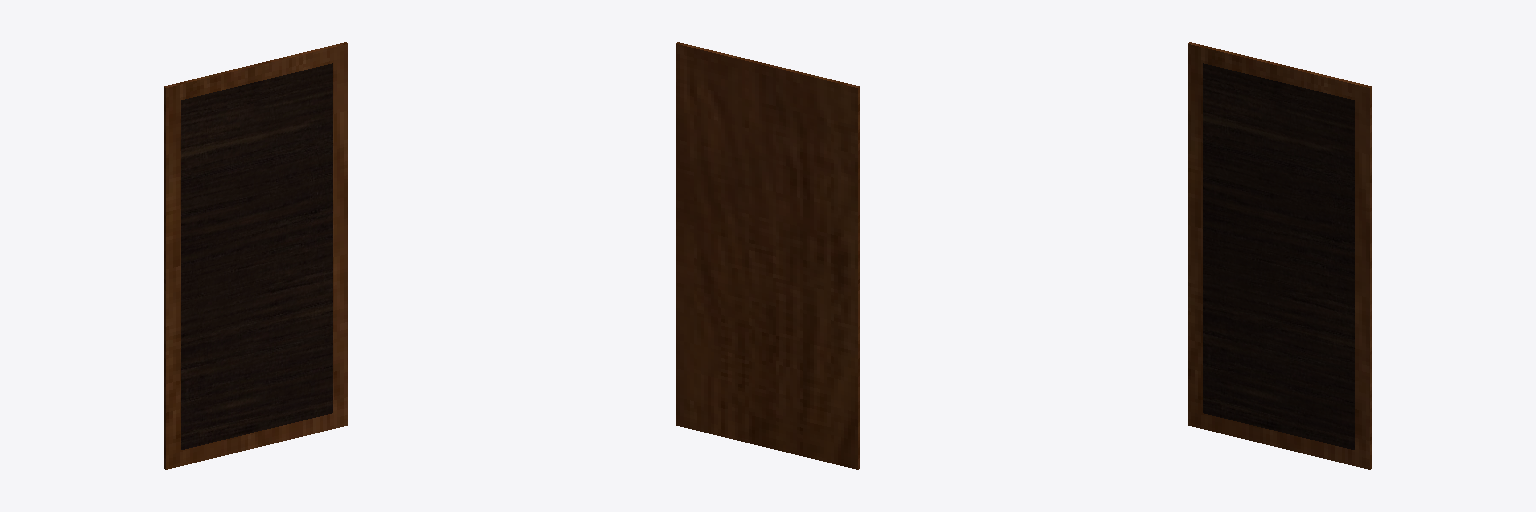
3 views of the same model, side by side, from view 1: azimuth 30°, elevation 25°; view 2: azimuth 150°, elevation 25°; view 3: azimuth 330°, elevation 25° (orthographic).
Parts seen in each view (by area): view 1: Mesh1_Group1_Model, Mesh1_Group1_Model.001; view 2: Mesh1_Group1_Model.001; view 3: Mesh1_Group1_Model, Mesh1_Group1_Model.001.
Part boxes in pixels (x1,y1,x2,y2): Mesh1_Group1_Model: (181,63,332,449); Mesh1_Group1_Model.001: (164,42,347,469); Mesh1_Group1_Model.001: (676,42,859,469); Mesh1_Group1_Model: (1203,63,1354,449); Mesh1_Group1_Model.001: (1188,42,1371,469).
Bounding box in the file's own units: 0.625 × 1.25 × 0.0132.
2 materials, 2 textured.